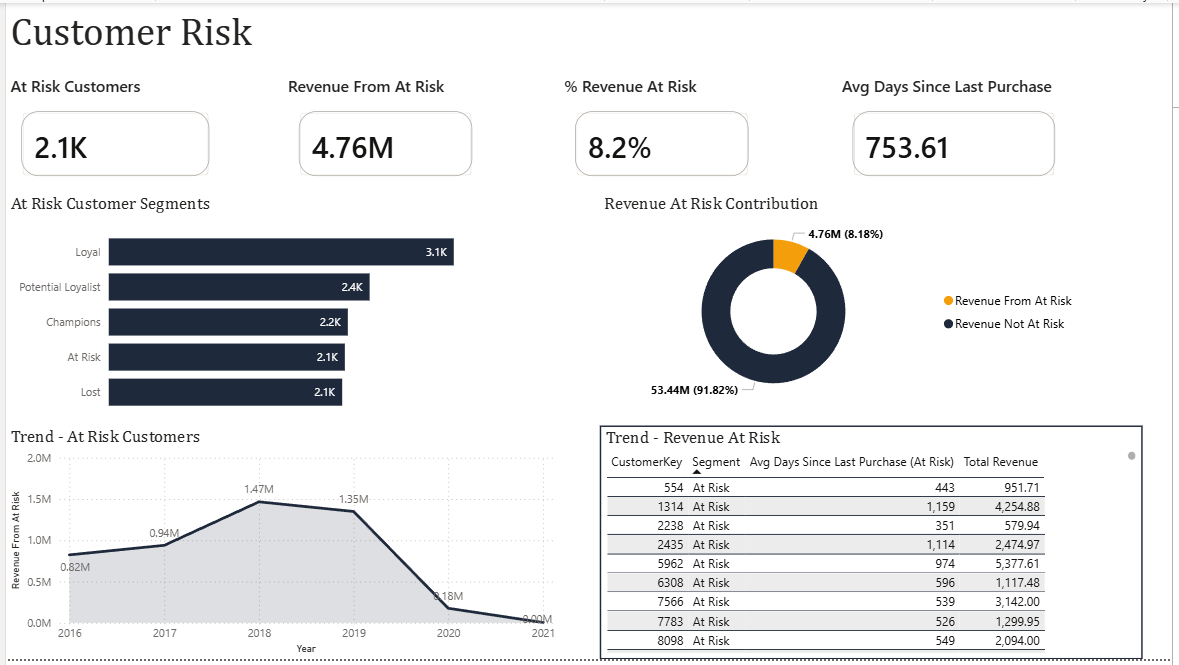

The page's visual inventory and layout, read from the dashboard file:
{"tool":"powerbi","page":{"name":"Page 2","canvas":[1280,720],"ordinal":1},"visuals":[{"type":"cardVisual","title":"At Risk Customers","fields":{"Data":["_Measures.At Risk Customers"]},"box":[0,80,240,128],"z":0},{"type":"cardVisual","title":"Revenue From At Risk","fields":{"Data":["_Measures.Revenue From At Risk"]},"box":[304,80,224,128],"z":1000},{"type":"cardVisual","title":"% Revenue At Risk","fields":{"Data":["_Measures.Pct Revenue At Risk"]},"box":[608,80,224,128],"z":2000},{"type":"cardVisual","title":"Avg Days Since Last Purchase","fields":{"Data":["_Measures.Avg Days Since Last Purchase (At Risk)"]},"box":[912,80,256,128],"z":3000},{"type":"clusteredBarChart","title":"At Risk Customer Segments","fields":{"Category":["rfm_customer_segments.Segment"],"Y":["Count(rfm_customer_segments.CustomerKey)"]},"box":[0,208.6,528.3,255.2],"z":4000},{"type":"donutChart","title":"Revenue At Risk Contribution","fields":{"Y":["_Measures.Revenue From At Risk","_Measures.Revenue Not At Risk"]},"box":[651.4,208.6,532.8,238.7],"z":5000},{"type":"lineChart","title":"Trend - At Risk Customers","fields":{"Category":["FactSales.Order Date.Variation.Date Hierarchy.Year","FactSales.Order Date.Variation.Date Hierarchy.Quarter","FactSales.Order Date.Variation.Date Hierarchy.Month","FactSales.Order Date.Variation.Date Hierarchy.Day"],"Y":["_Measures.Revenue From At Risk"]},"box":[0,463.8,607.9,256.7],"z":6000},{"type":"tableEx","title":"Trend - Revenue At Risk","fields":{"Values":["rfm_customer_segments.CustomerKey","rfm_customer_segments.Segment","_Measures.Avg Days Since Last Purchase (At Risk)","_Measures.Total Revenue"]},"box":[651.4,463.8,595.9,256.7],"z":7000},{"type":"textbox","box":[0,0,528,64],"z":8000}]}

Visuals, with their boxes in screenshot pixels (x1, y1, x2, y2), scaled from the page's 1280x720 canvas onto the 1179x665 screenshot:
"At Risk Customers" cardVisual: bbox=[0, 74, 221, 192]
"Revenue From At Risk" cardVisual: bbox=[280, 74, 486, 192]
"% Revenue At Risk" cardVisual: bbox=[560, 74, 766, 192]
"Avg Days Since Last Purchase" cardVisual: bbox=[840, 74, 1076, 192]
"At Risk Customer Segments" clusteredBarChart: bbox=[0, 193, 487, 428]
"Revenue At Risk Contribution" donutChart: bbox=[600, 193, 1091, 413]
"Trend - At Risk Customers" lineChart: bbox=[0, 428, 560, 664]
"Trend - Revenue At Risk" tableEx: bbox=[600, 428, 1149, 664]
textbox: bbox=[0, 0, 486, 59]
